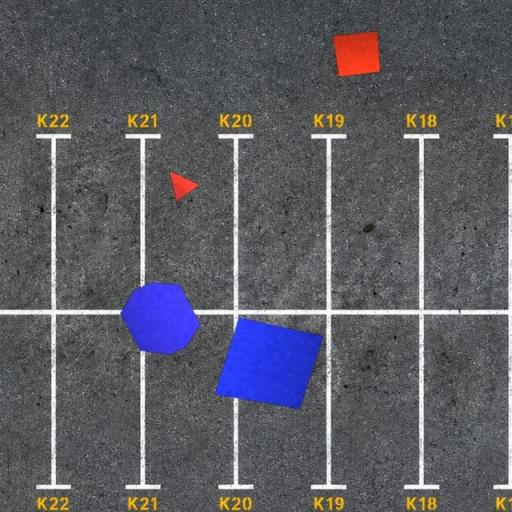BLUE_SQUARE: (214, 316, 324, 410)
RED_SQUARE: (332, 30, 382, 78)
